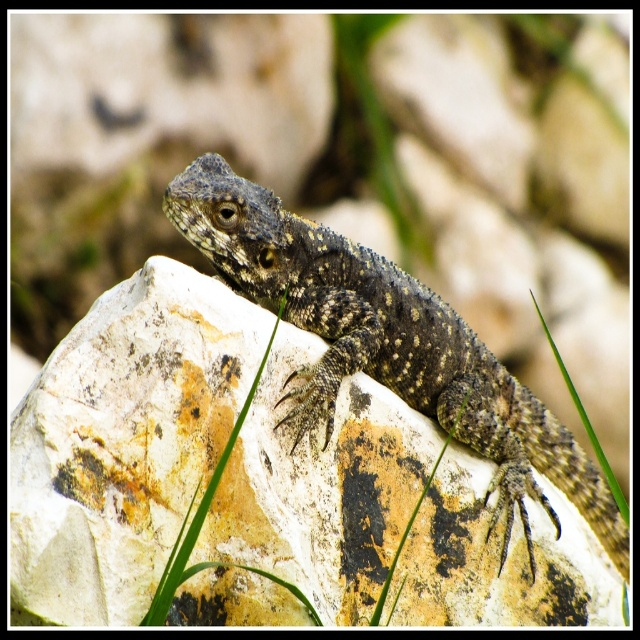Lizard: (170, 146, 628, 590)
